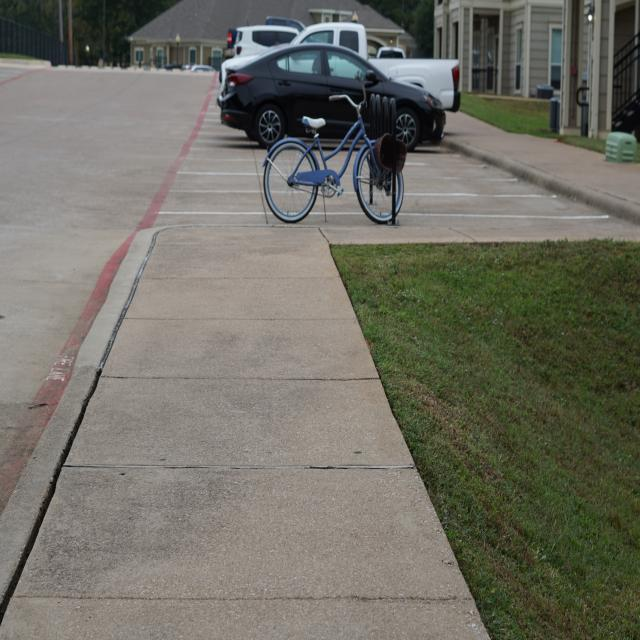Automobile: (218, 16, 460, 151)
Obstacle: (263, 94, 407, 224), (605, 132, 637, 162)
Road: (0, 66, 276, 509), (398, 147, 603, 224), (305, 161, 367, 224)
Sidewalk: (0, 215, 640, 640), (446, 113, 640, 209)
